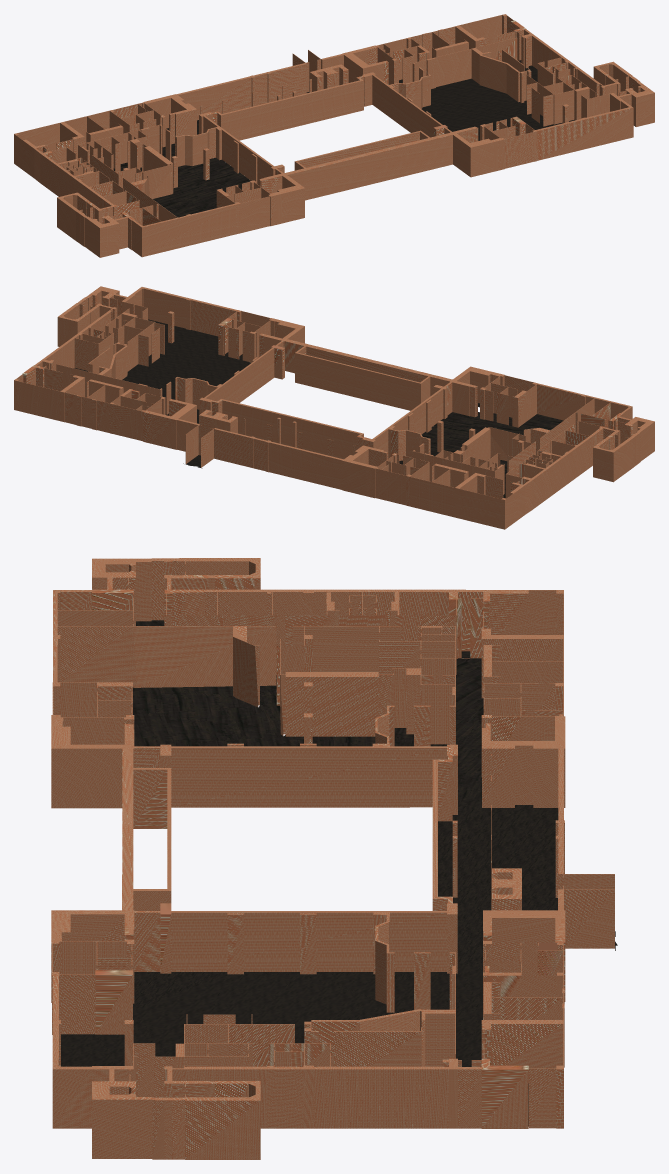
File: kouryu2f.dae
3 renders of one model, top to bottom at view 1: azimuth 30°, elevation 25°; view 2: azimuth 150°, elevation 25°; view 3: azimuth 270°, elevation 25°, orthographic. The views are drawn at different scales.
Visible parts, largest first — view 1: Curve_244; view 2: Curve_244; view 3: Curve_244.
Boxes of the visible parts, x1,y1,x2,y2 form: Curve_244: (14,14,654,257); Curve_244: (14,286,654,529); Curve_244: (51,558,617,1159).
Bounding box in the file's own units: 42.7 × 18.85 × 2.18.
2 materials, 2 textured.
